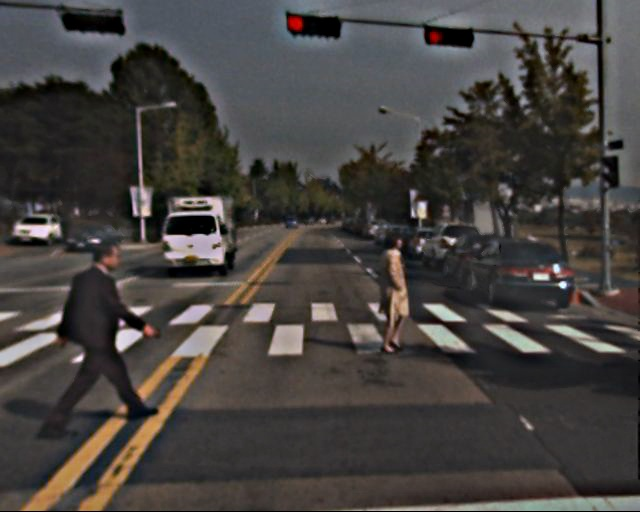person: (54, 243, 132, 434), (370, 234, 419, 354)
